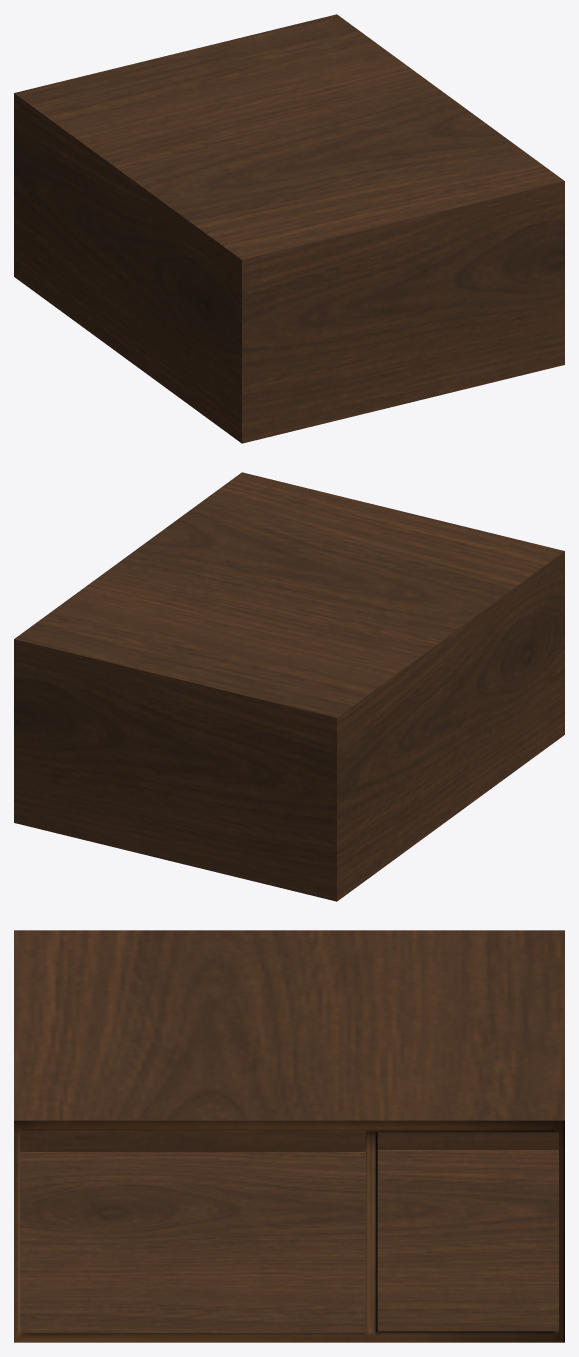
Rendered from air_cupboard_extender.glb.
3 views of the same model, one above another, from view 1: azimuth 30°, elevation 25°; view 2: azimuth 150°, elevation 25°; view 3: azimuth 270°, elevation 25° (orthographic). The views are drawn at different scales.
Visible parts, largest first — view 1: hcabinet.008_atlas_kitchen_0; view 2: hcabinet.008_atlas_kitchen_0; view 3: hcabinet.008_atlas_kitchen_0.
Part boxes in pixels (x1,y1,x2,y2): hcabinet.008_atlas_kitchen_0: (14,14,564,443); hcabinet.008_atlas_kitchen_0: (14,472,564,901); hcabinet.008_atlas_kitchen_0: (14,930,564,1342).
Size of the model in its own units: 0.736 by 0.4 by 0.9.
Materials: 1 (1 with a texture image).
